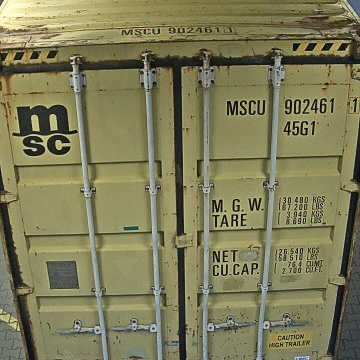serial_id: (227, 97, 360, 114)
